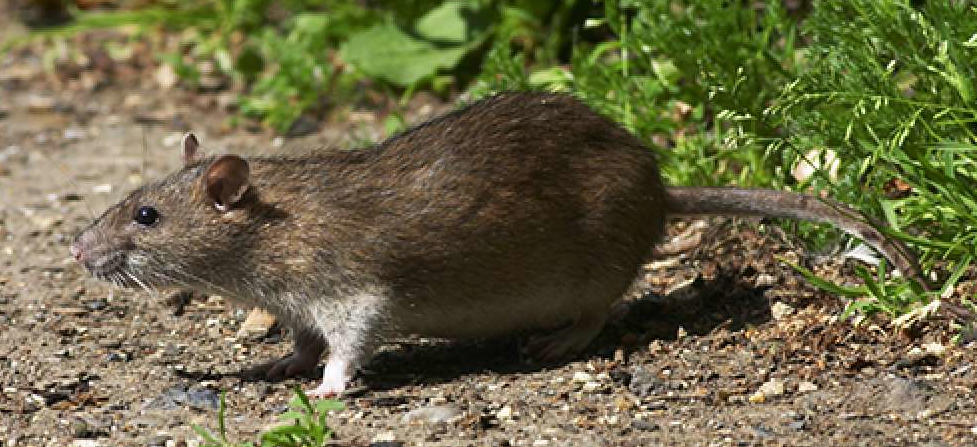rat: (59, 72, 842, 403)
